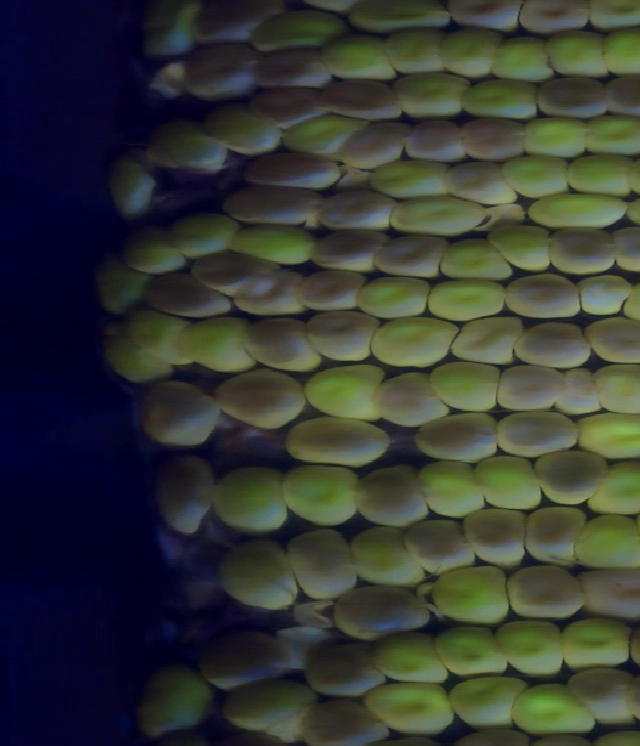fluorescent: (215, 671, 327, 739), (212, 534, 308, 613), (137, 662, 226, 744), (293, 357, 392, 429), (358, 678, 464, 741), (275, 459, 369, 529), (428, 559, 518, 631), (359, 309, 463, 371), (115, 300, 199, 374), (194, 97, 291, 161), (489, 611, 575, 683), (210, 463, 297, 534), (241, 4, 355, 58), (343, 519, 428, 591), (365, 625, 457, 690), (505, 680, 605, 739), (380, 189, 493, 241), (177, 311, 256, 383), (275, 105, 368, 166), (445, 669, 536, 731), (220, 218, 325, 271), (469, 449, 550, 517), (93, 322, 175, 389), (428, 619, 514, 682), (554, 613, 640, 675), (315, 29, 403, 88), (421, 355, 506, 415), (143, 119, 229, 178), (415, 455, 494, 519), (520, 189, 634, 233), (569, 509, 640, 579), (389, 66, 476, 123), (457, 71, 544, 126), (341, 1, 465, 39), (563, 406, 640, 467), (135, 1, 208, 65), (483, 218, 560, 278), (494, 147, 574, 204), (351, 269, 432, 325), (561, 145, 640, 202), (363, 155, 456, 203), (435, 22, 508, 83), (376, 24, 455, 80), (425, 273, 512, 323), (163, 209, 245, 262), (539, 25, 615, 82), (516, 110, 593, 166), (89, 252, 154, 317), (99, 149, 158, 220), (431, 236, 516, 285), (116, 225, 195, 277), (484, 33, 559, 85), (584, 456, 640, 522), (576, 108, 640, 161), (588, 359, 640, 422), (595, 23, 640, 80), (584, 1, 640, 34)
nonfluorescent: (131, 373, 233, 455), (206, 361, 313, 432), (194, 629, 300, 698), (282, 409, 398, 472), (143, 450, 222, 541), (297, 632, 394, 704), (347, 460, 436, 538), (326, 580, 437, 640), (280, 522, 363, 601), (497, 559, 592, 623), (405, 406, 506, 465), (524, 444, 615, 509), (367, 367, 455, 432), (176, 39, 265, 103), (180, 246, 292, 296), (454, 502, 535, 571), (563, 659, 640, 731), (518, 499, 597, 569), (398, 510, 483, 575), (238, 313, 326, 375), (241, 39, 342, 91), (239, 144, 348, 192), (294, 694, 394, 746), (569, 556, 640, 629), (296, 304, 383, 363), (535, 219, 623, 277), (489, 408, 588, 459), (497, 267, 587, 323), (309, 75, 409, 125), (135, 270, 237, 319), (311, 185, 402, 239), (183, 1, 283, 50), (362, 227, 450, 282), (510, 318, 595, 374), (525, 70, 615, 122), (217, 182, 320, 227), (439, 155, 520, 209), (336, 116, 414, 172), (307, 225, 391, 277), (244, 82, 336, 129), (454, 109, 534, 163), (225, 269, 311, 319), (290, 264, 373, 315), (487, 364, 565, 416), (395, 113, 471, 164), (511, 1, 601, 42), (579, 311, 640, 371), (441, 1, 524, 37), (549, 364, 605, 417), (597, 69, 640, 121), (606, 222, 640, 279)
